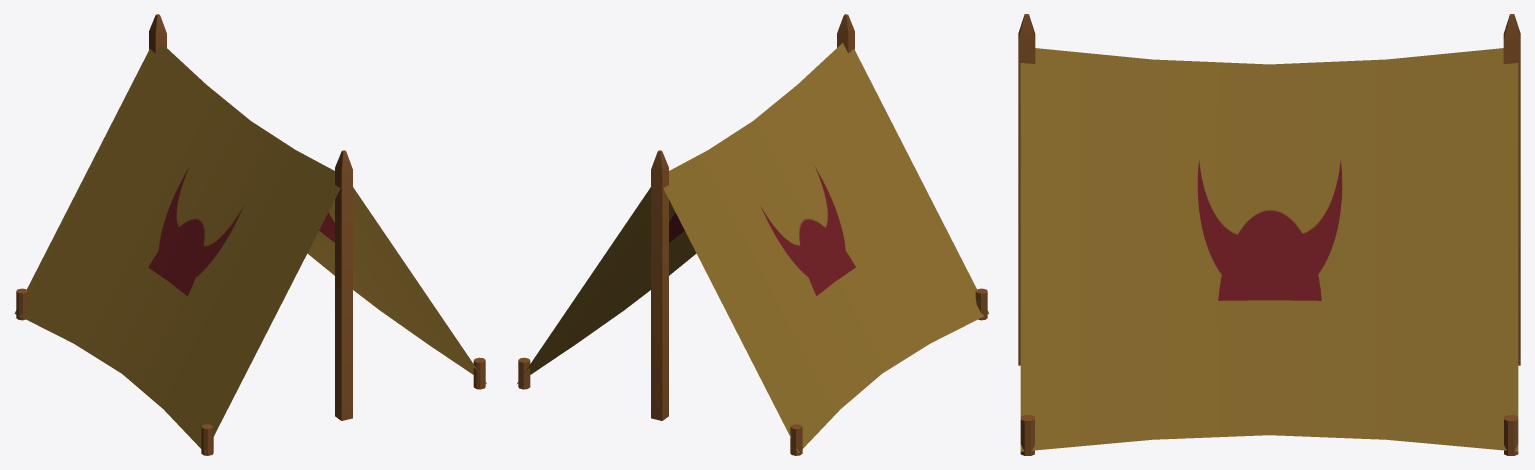
The model's file is палатка.fbx.
3 renders of one model, left to right at view 1: azimuth 30°, elevation 25°; view 2: azimuth 150°, elevation 25°; view 3: azimuth 270°, elevation 25°, orthographic. The views are drawn at different scales.
Parts seen in each view (by area): view 1: Cube.001; view 2: Cube.001; view 3: Cube.001.
Boxes of the visible parts, left/top/right/bottom form: Cube.001: left=14, top=14, right=486, bottom=455; Cube.001: left=517, top=14, right=989, bottom=455; Cube.001: left=1018, top=14, right=1520, bottom=455.
Size of the model in its own units: 1.21 by 1.1 by 1.43.
Materials: 2 (1 with a texture image).
